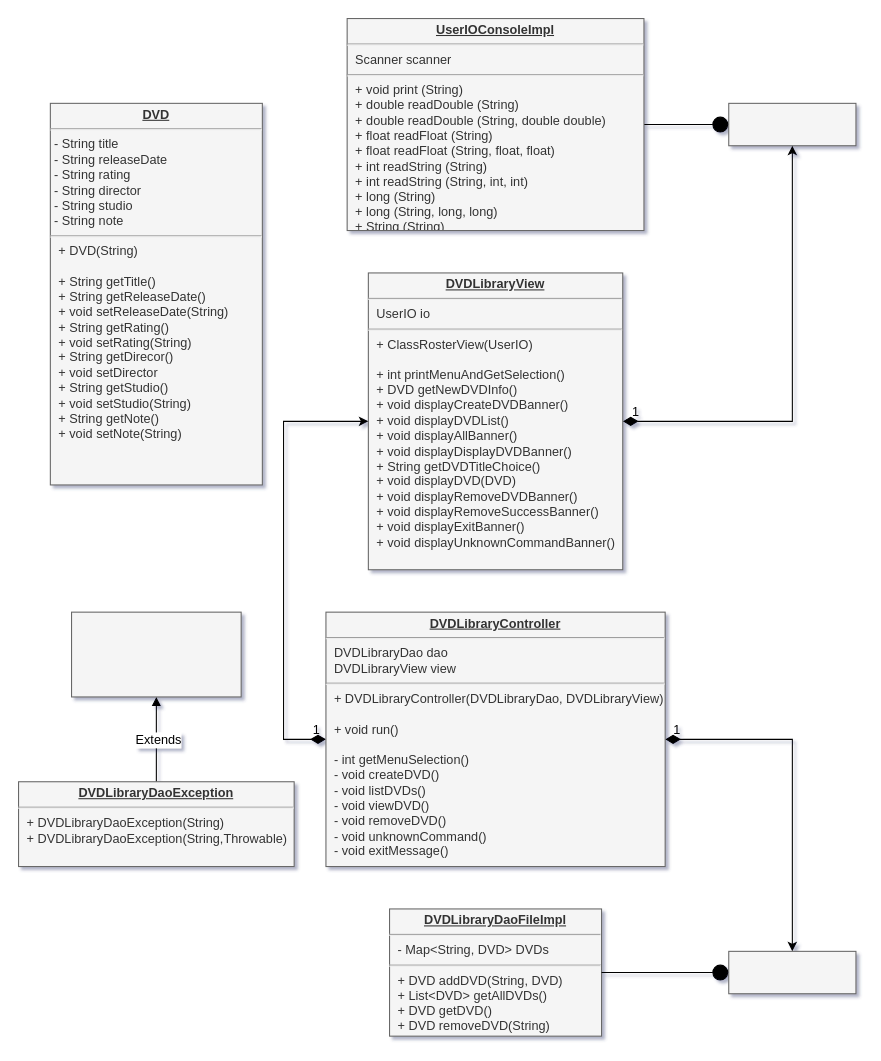
Some shapes in this 881 by 1061 pixel diagram are drawn without their labels. Here are the shapes that lost their labels. From the top down, the centre of each, then its label:
point 792,124: «interface» UserIO
point 155,654: Exception
point 792,972: «interface» DVDLibraryDao
